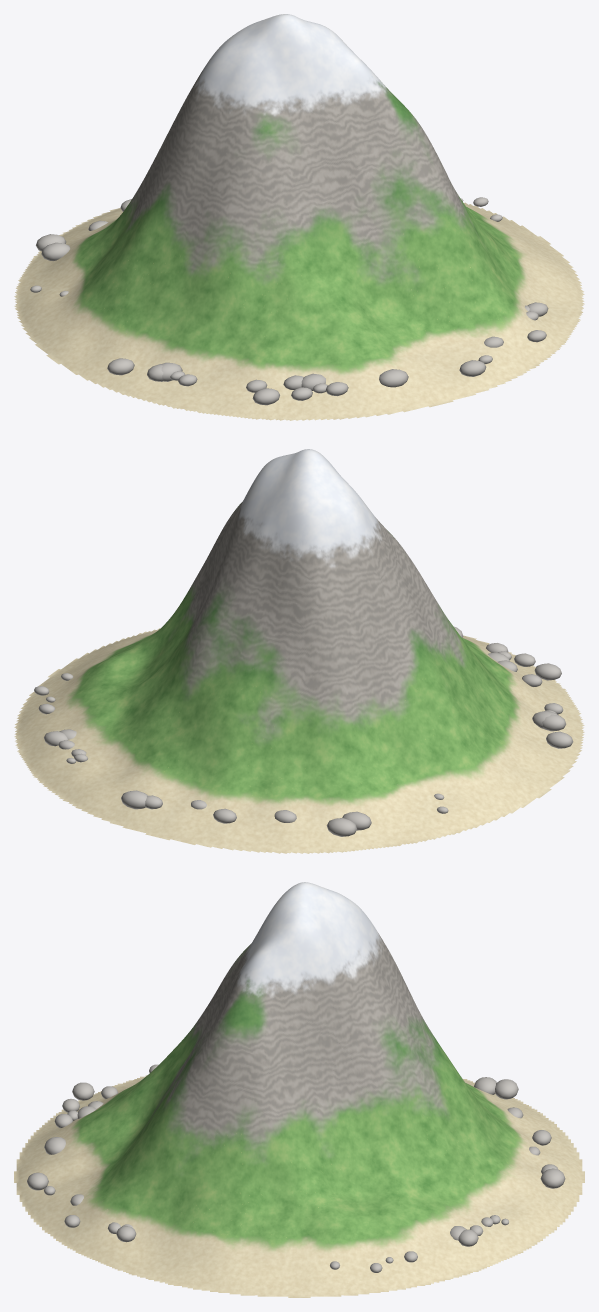
The model's file is monte.glb.
3 renders of one model, top to bottom at view 1: azimuth 30°, elevation 25°; view 2: azimuth 150°, elevation 25°; view 3: azimuth 270°, elevation 25°, orthographic.
Visible parts, largest first — view 1: Monte_Arco_Iris; view 2: Monte_Arco_Iris; view 3: Monte_Arco_Iris.
Boxes of the visible parts, x1,y1,x2,y2 form: Monte_Arco_Iris: [14, 14, 584, 420]; Monte_Arco_Iris: [14, 449, 584, 853]; Monte_Arco_Iris: [14, 882, 584, 1297].
Bounding box in the file's own units: 1.85 × 1.03 × 1.85.
2 materials, 1 textured.
